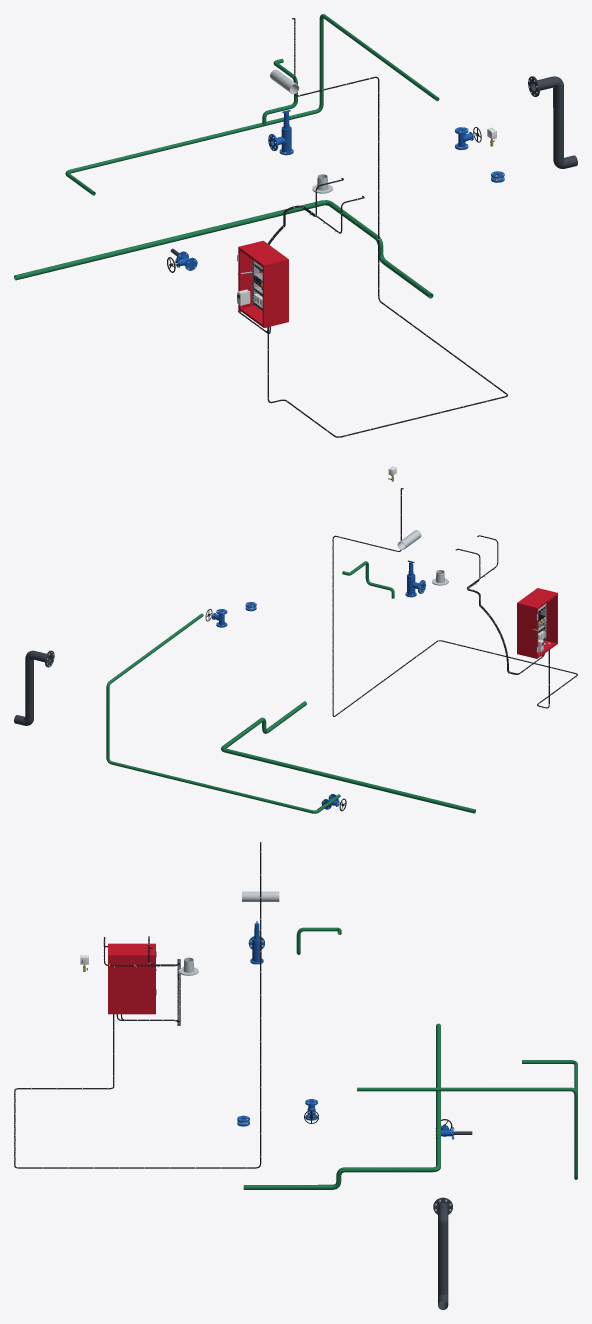
File: s4000-6-u9ffN72H.glb
The picture shows the model from 3 angles, top to bottom: view 1: azimuth 30°, elevation 25°; view 2: azimuth 150°, elevation 25°; view 3: azimuth 270°, elevation 25°; orthographic projection. The views are drawn at different scales.
Parts seen in each view (by area): view 1: control_cabinet / control_cabinet_0.npz, suction_common / green, to_economizer / green, gpz_drive_cable / black, bdv_water_drain / dark, safety_1 / blue; view 2: control_cabinet / control_cabinet_0.npz, suction_common / green, to_economizer / green, gpz_drive_cable / black, bdv_water_drain / dark; view 3: control_cabinet / control_cabinet_0.npz, suction_common / green, to_economizer / green, gpz_drive_cable / black, bdv_water_drain / dark.
Part boxes in pixels (<box>): control_cabinet / control_cabinet_0.npz: <box>237,240,288,327</box>; suction_common / green: <box>14,200,433,298</box>; to_economizer / green: <box>65,14,439,195</box>; gpz_drive_cable / black: <box>267,18,507,437</box>; bdv_water_drain / dark: <box>528,76,577,168</box>; safety_1 / blue: <box>268,110,293,155</box>; control_cabinet / control_cabinet_0.npz: <box>517,588,557,658</box>; suction_common / green: <box>221,701,475,813</box>; to_economizer / green: <box>106,613,340,813</box>; gpz_drive_cable / black: <box>332,488,577,716</box>; bdv_water_drain / dark: <box>14,650,54,725</box>; control_cabinet / control_cabinet_0.npz: <box>108,943,156,1014</box>; suction_common / green: <box>243,1023,440,1189</box>; to_economizer / green: <box>357,1060,577,1179</box>; gpz_drive_cable / black: <box>14,842,261,1168</box>; bdv_water_drain / dark: <box>433,1197,452,1309</box>.
Size of the model in its own units: 6.75 by 3.67 by 6.22.
